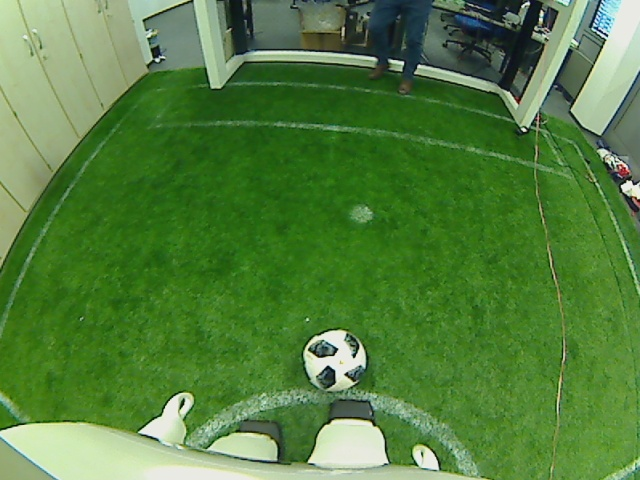ball: (301, 326, 367, 393)
